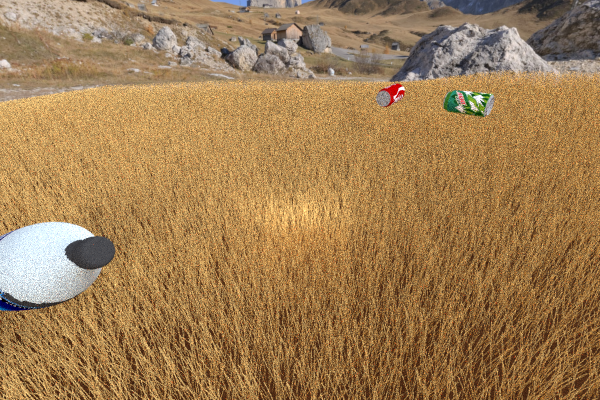Plastic Bottle: (0, 221, 115, 312), (442, 90, 494, 117), (376, 83, 404, 107)
